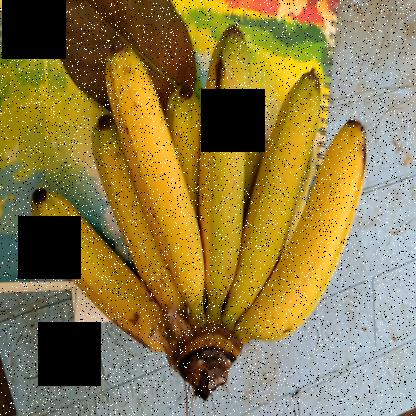freshripe: (103, 40, 195, 316), (259, 126, 372, 350), (234, 70, 325, 299)
ripe: (20, 181, 162, 360), (190, 28, 255, 292)
